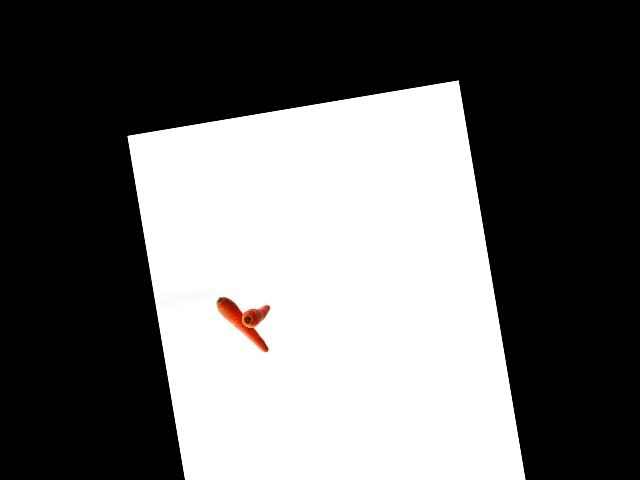carrot: (237, 300, 274, 329)
